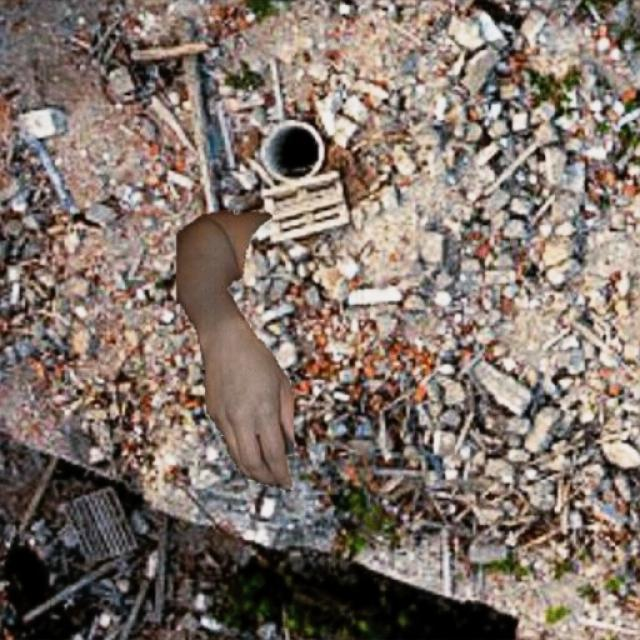Person in Rubble: (176, 210, 292, 491)
